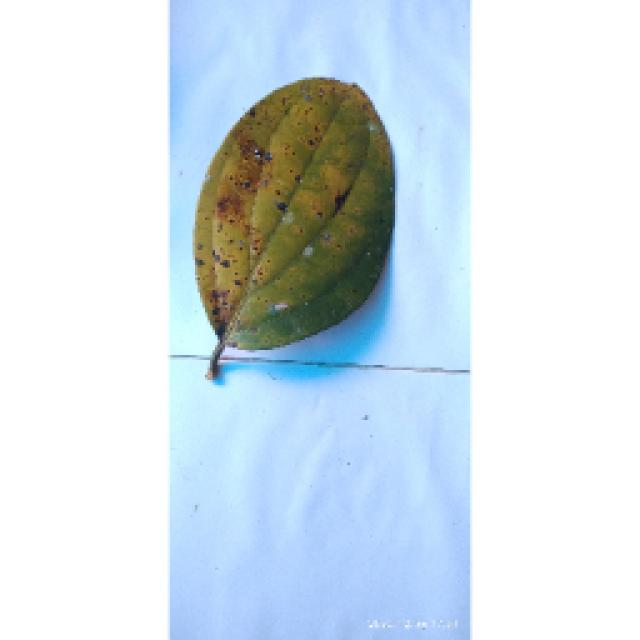slow-decline: (185, 68, 397, 368)
